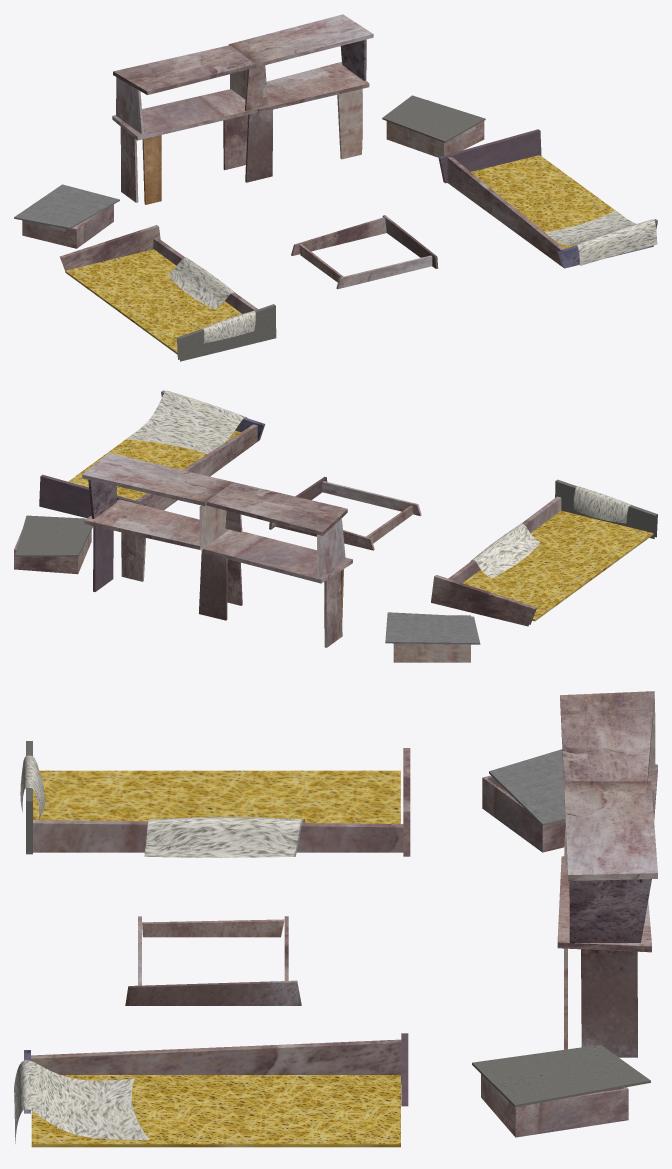
Rendered from Funiture.FBX.
3 renders of one model, top to bottom at view 1: azimuth 30°, elevation 25°; view 2: azimuth 150°, elevation 25°; view 3: azimuth 270°, elevation 25°, orthographic. The views are drawn at different scales.
Parts seen in each view (by area): view 1: SBH_Funiture (×26); view 2: SBH_Funiture (×26); view 3: SBH_Funiture (×18).
Boxes of the visible parts, x1=… form: SBH_Funiture (×26): x1=14, y1=14, x2=657, y2=361; SBH_Funiture (×26): x1=14, y1=390, x2=657, y2=662; SBH_Funiture (×18): x1=14, y1=691, x2=657, y2=1147.
Size of the model in its own units: 8.38 by 1.95 by 6.04.
1 material, 1 textured.
